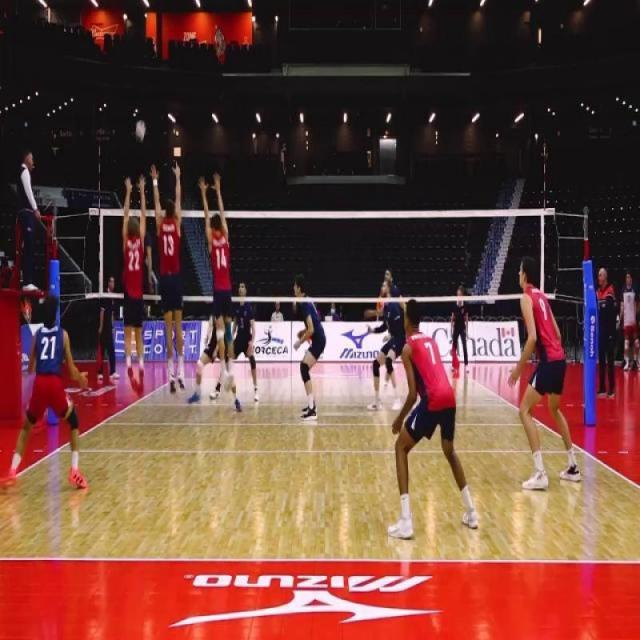volleyball: (134, 118, 146, 145)
